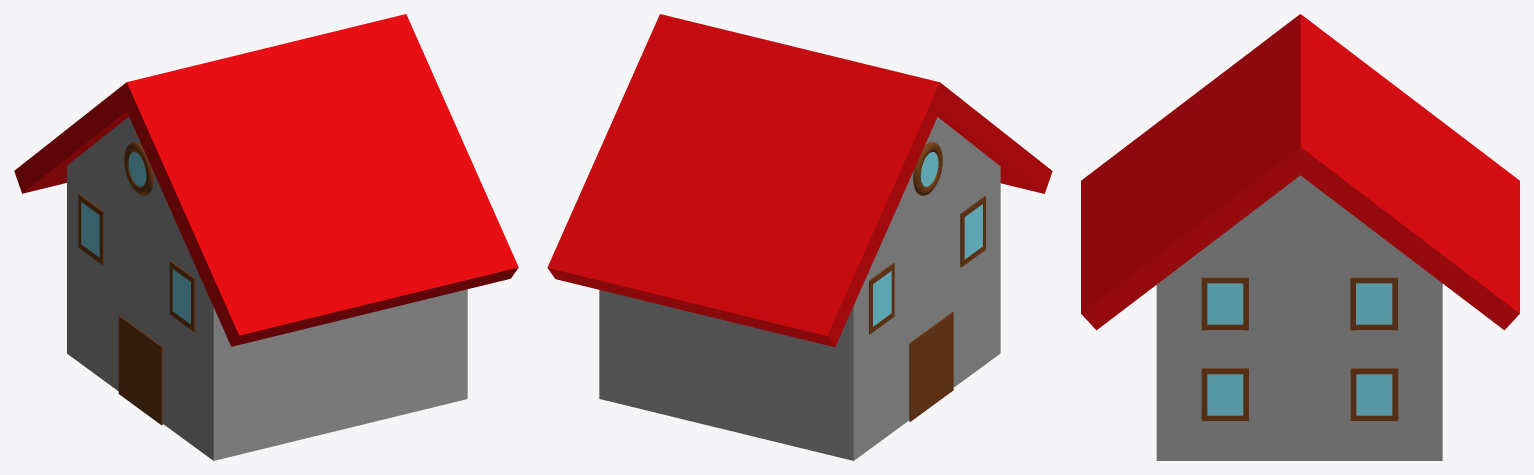
The model's file is casita.fbx.
The picture shows the model from 3 angles, left to right: view 1: azimuth 30°, elevation 25°; view 2: azimuth 150°, elevation 25°; view 3: azimuth 270°, elevation 25°; orthographic projection. The views are drawn at different scales.
Visible parts, largest first — view 1: Tejado, Casa, Puerta, Ventana1, Torus, Cube.006; view 2: Tejado, Casa, Puerta, Ventana1, Torus, Cube.006; view 3: Tejado, Casa, Ventana5, Ventana2, Ventana3, Ventana4.
Boxes of the visible parts, left/top/right/bottom form: Tejado: left=14, top=14, right=518, bottom=346; Casa: left=67, top=117, right=467, bottom=460; Puerta: left=118, top=315, right=162, bottom=425; Ventana1: left=78, top=194, right=103, bottom=265; Torus: left=124, top=142, right=153, bottom=195; Cube.006: left=172, top=269, right=190, bottom=324; Tejado: left=547, top=14, right=1052, bottom=347; Casa: left=599, top=117, right=1000, bottom=460; Puerta: left=909, top=312, right=953, bottom=421; Ventana1: left=869, top=263, right=894, bottom=334; Torus: left=913, top=142, right=942, bottom=195; Cube.006: left=964, top=204, right=982, bottom=259; Tejado: left=1081, top=14, right=1519, bottom=330; Casa: left=1156, top=175, right=1442, bottom=460; Ventana5: left=1350, top=368, right=1398, bottom=420; Ventana2: left=1350, top=277, right=1397, bottom=330; Ventana3: left=1201, top=277, right=1248, bottom=330; Ventana4: left=1201, top=368, right=1248, bottom=420.
Bounding box in the file's own units: 220 × 247 × 307.
